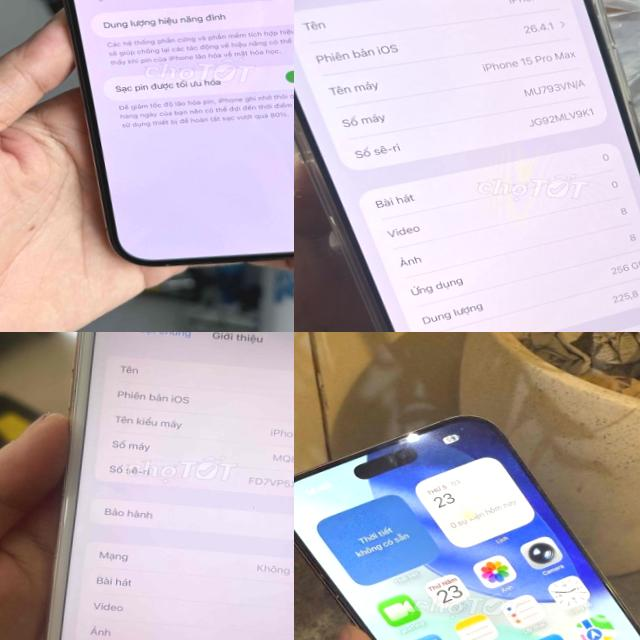gen_14: (21, 0, 294, 281)
gen_15: (294, 0, 640, 332)
gen_16: (294, 416, 640, 640)
gen_7_8: (37, 332, 294, 640)
